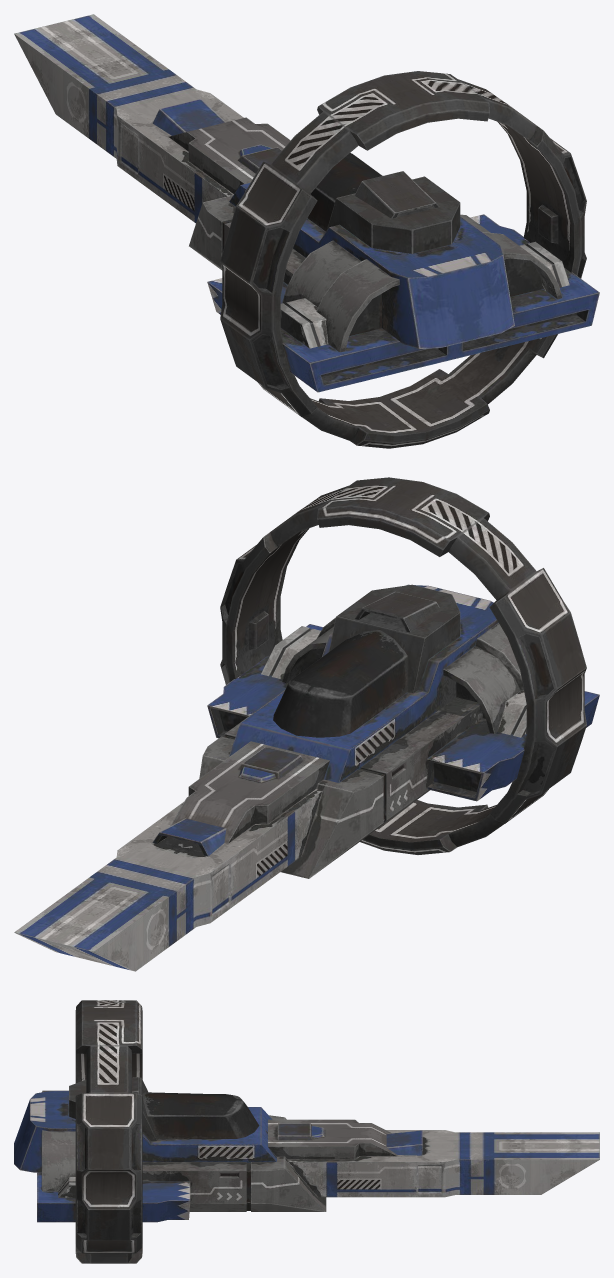
The model's file is quaternius-zenith.glb.
The picture shows the model from 3 angles, top to bottom: view 1: azimuth 30°, elevation 25°; view 2: azimuth 150°, elevation 25°; view 3: azimuth 270°, elevation 25°; orthographic projection. The views are drawn at different scales.
Visible parts, largest first — view 1: Zenith; view 2: Zenith; view 3: Zenith.
Part boxes in pixels (bbox=[...]): Zenith: bbox=[14, 14, 599, 448]; Zenith: bbox=[14, 477, 599, 971]; Zenith: bbox=[14, 1000, 599, 1263].
Bounding box in the file's own units: 5.63 × 5.43 × 12.07.
Materials: 1 (1 with a texture image).
